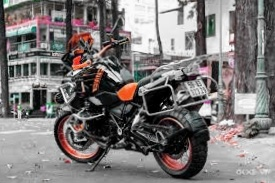Bien-so: (176, 74, 201, 95)
